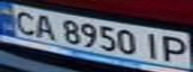0: (115, 27, 142, 56)
5: (97, 24, 118, 53)
8: (57, 17, 81, 46)
9: (78, 20, 100, 48)
A: (30, 12, 60, 41)
C: (6, 7, 42, 36)
I: (139, 29, 166, 61)
P: (160, 33, 193, 63)
